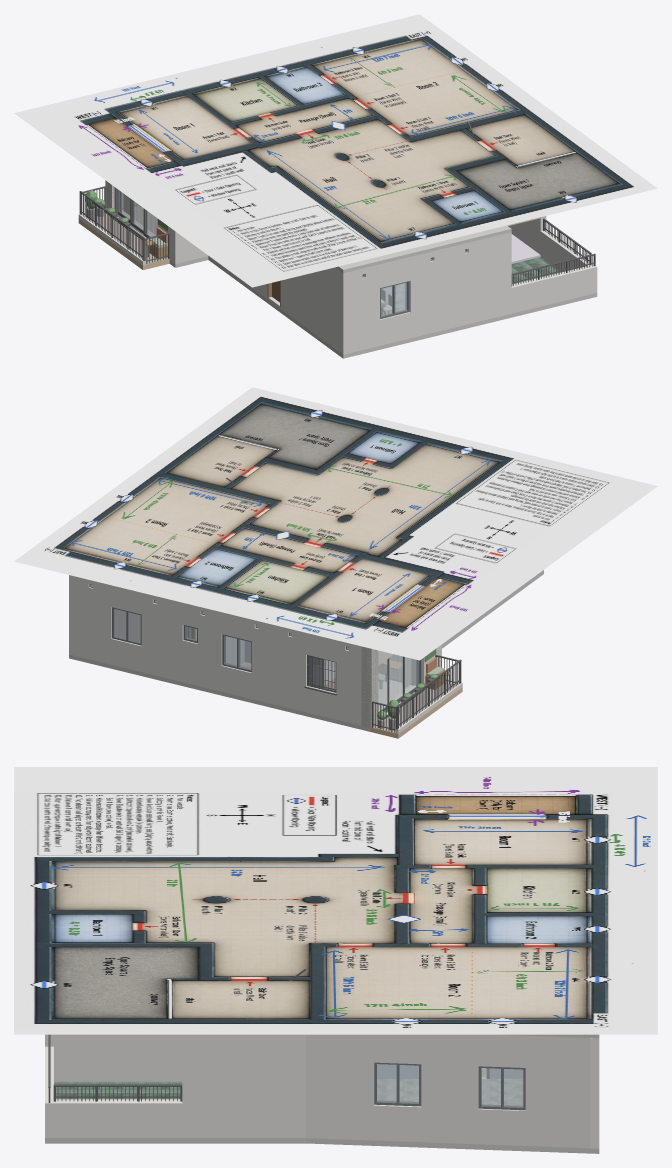
File: MyFlat_V1_3_Hall_Recommended.glb
3 views of the same model, one above another, from view 1: azimuth 30°, elevation 25°; view 2: azimuth 150°, elevation 25°; view 3: azimuth 270°, elevation 25° (orthographic). The views are drawn at different scales.
Visible parts, largest first — view 1: PLAN_REFERENCE_OVERLAY, WALL_EXT_S_HALL, WALL_EXT_W_HALL, PARAPET_OPENSQ_S, SLAB_FLOOR_STRUCTURAL, BALCONY_RAILING_W, SLAB_ROOF, PARAPET_OPENSQ_E, R1_DEF_BALCONY_FLOOR_FINISH, RAILING_OPENSQ_S, WALL_EXT_E_STAIR, HR_OPENSQ_FINISH (+4 smaller); view 2: PLAN_REFERENCE_OVERLAY, WALL_EXT_N_R2, WALL_EXT_N_R1, WALL_EXT_N_KIT, WALL_EXT_N_B2, SLAB_FLOOR_STRUCTURAL, BALCONY_RAILING_W, PILLAR_R1_NW, R1_DEF_BALCONY_CURTAIN_SHEER, WALL_EXT_W_R1_BALCONY, WINDOW_W4_GLASS, R1_DEF_BALCONY_FLOOR_FINISH (+3 smaller); view 3: PLAN_REFERENCE_OVERLAY, WALL_EXT_E_R2_TAPERED, WALL_EXT_E_STAIR, WALL_INT_OPENSQ_W, PARAPET_OPENSQ_E, SLAB_FLOOR_STRUCTURAL, HR_OPENSQ_FINISH, HR_FLOOR_R2_FINISH, WINDOW_W5_GLASS, WINDOW_W6_GLASS, RAILING_OPENSQ_E, WALL_EXT_N_R2 (+4 smaller).
Part boxes in pixels (x1,y1,x2,y2): PLAN_REFERENCE_OVERLAY: (14,14,657,287); WALL_EXT_S_HALL: (340,232,511,354); WALL_EXT_W_HALL: (209,256,348,354); PARAPET_OPENSQ_S: (511,264,597,313); SLAB_FLOOR_STRUCTURAL: (169,256,597,358); BALCONY_RAILING_W: (79,191,144,260); SLAB_ROOF: (335,225,511,273); PARAPET_OPENSQ_E: (540,230,593,272); R1_DEF_BALCONY_FLOOR_FINISH: (93,212,168,264); RAILING_OPENSQ_S: (511,253,595,286); WALL_EXT_E_STAIR: (508,216,546,254); HR_OPENSQ_FINISH: (511,257,561,284); PLAN_REFERENCE_OVERLAY: (14,387,657,660); WALL_EXT_N_R2: (69,575,171,679); WALL_EXT_N_R1: (265,623,372,727); WALL_EXT_N_KIT: (208,609,264,701); WALL_EXT_N_B2: (172,600,208,688); SLAB_FLOOR_STRUCTURAL: (69,570,543,731); BALCONY_RAILING_W: (396,659,461,729); PILLAR_R1_NW: (361,646,378,727); R1_DEF_BALCONY_CURTAIN_SHEER: (378,654,411,708); WALL_EXT_W_R1_BALCONY: (362,647,438,727); WINDOW_W4_GLASS: (114,609,140,642); R1_DEF_BALCONY_FLOOR_FINISH: (373,683,454,732); PLAN_REFERENCE_OVERLAY: (14,767,657,1034); WALL_EXT_E_R2_TAPERED: (306,1034,590,1148); WALL_EXT_E_STAIR: (182,1034,305,1137); WALL_INT_OPENSQ_W: (54,1034,182,1081); PARAPET_OPENSQ_E: (54,1099,182,1137); SLAB_FLOOR_STRUCTURAL: (45,1138,599,1153); HR_OPENSQ_FINISH: (54,1081,182,1099); HR_FLOOR_R2_FINISH: (377,1079,523,1105); WINDOW_W5_GLASS: (481,1068,523,1106); WINDOW_W6_GLASS: (377,1064,418,1103); RAILING_OPENSQ_E: (53,1084,182,1101); WALL_EXT_N_R2: (590,1038,599,1148).
Size of what is drawn, in the model's own units: 16.28 by 4.33 by 16.55.
110 materials, 5 textured.
